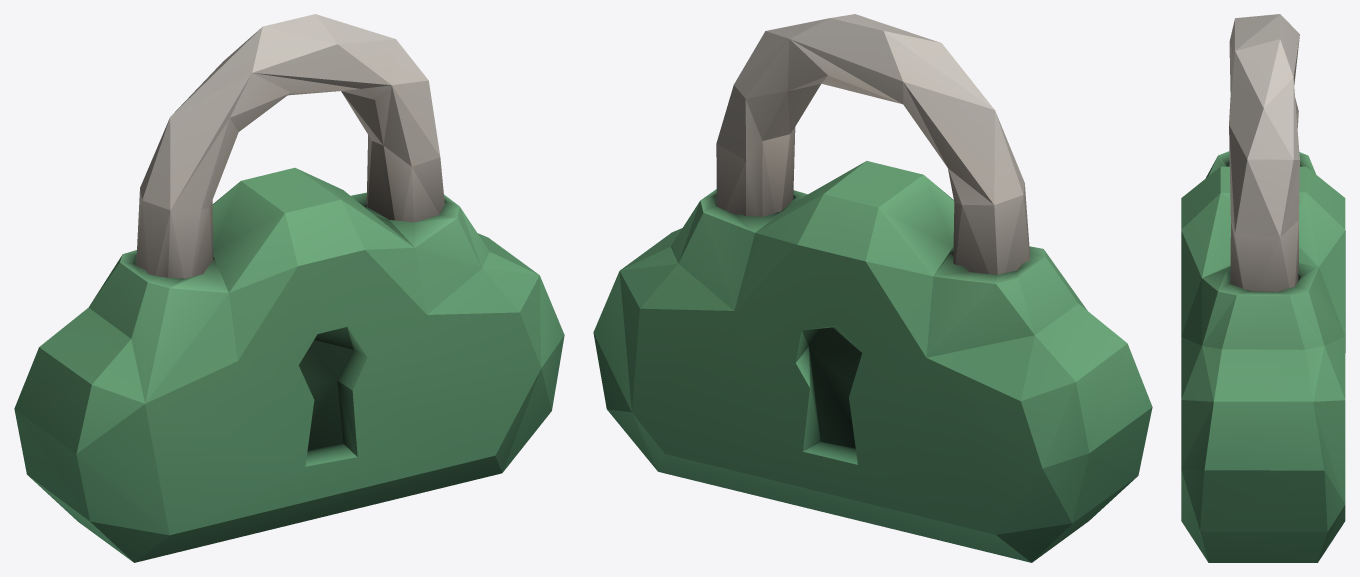
The model's file is lock_05_lod1.glb.
The picture shows the model from 3 angles, left to right: view 1: azimuth 30°, elevation 25°; view 2: azimuth 150°, elevation 25°; view 3: azimuth 270°, elevation 25°; orthographic projection. The views are drawn at different scales.
Visible parts, largest first — view 1: geometry_0; view 2: geometry_0; view 3: geometry_0.
Boxes of the visible parts, box(x1,y1,x2,y2) form: geometry_0: box(14, 14, 564, 562); geometry_0: box(593, 14, 1152, 562); geometry_0: box(1181, 14, 1345, 562).
Bounding box in the file's own units: 0.9546 × 0.8765 × 0.2881.
